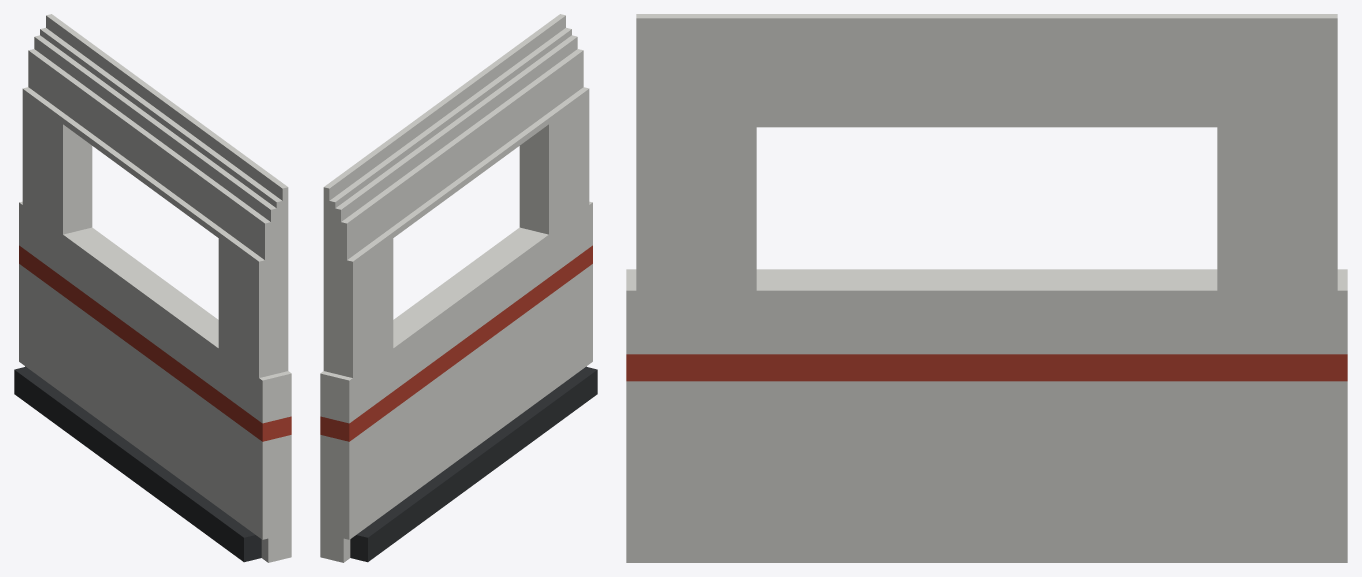
The model's file is caravan_tail_cap.glb.
The picture shows the model from 3 angles, left to right: view 1: azimuth 30°, elevation 25°; view 2: azimuth 150°, elevation 25°; view 3: azimuth 270°, elevation 25°; orthographic projection. The views are drawn at different scales.
Parts seen in each view (by area): view 1: body:compound; view 2: body:compound; view 3: body:compound.
Boxes of the visible parts, x1,y1,x2,y2 form: body:compound: (14, 14, 291, 562); body:compound: (320, 14, 597, 562); body:compound: (626, 14, 1347, 562).
Bounding box in the file's own units: 0.2188 × 1.88 × 2.25.
